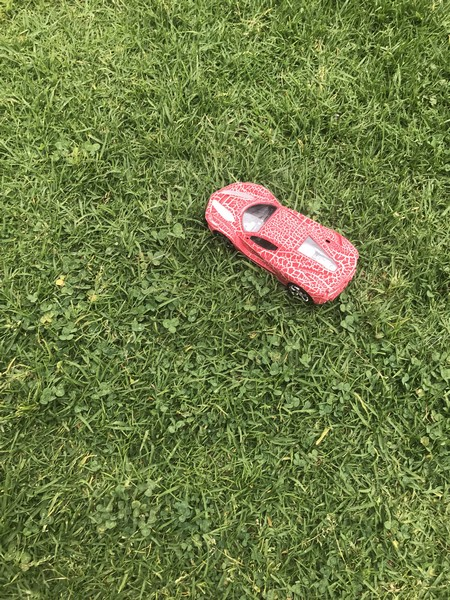RC: (205, 180, 362, 309)
